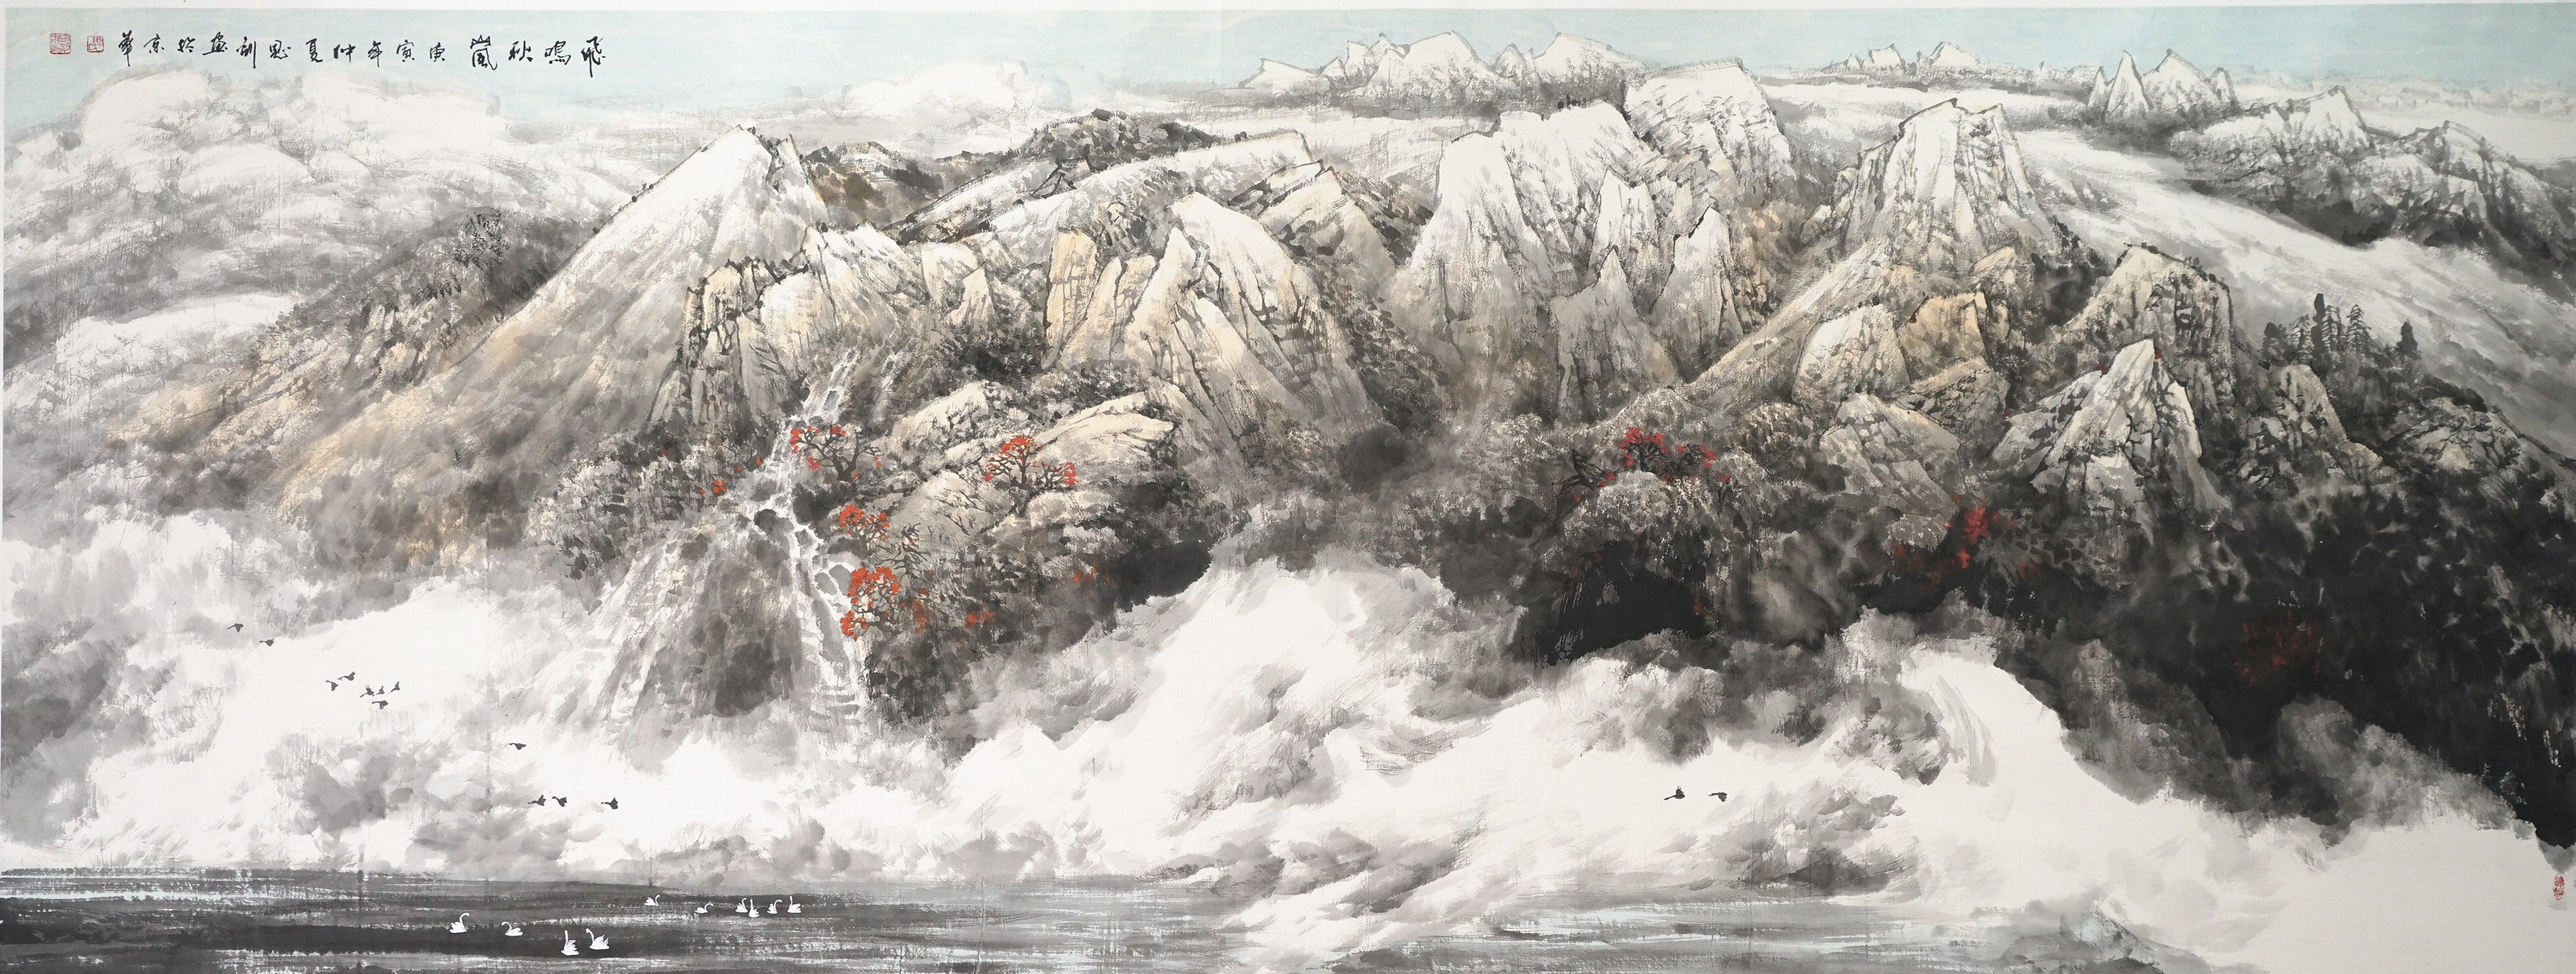mountain: (1373, 41, 1825, 465), (1005, 169, 1414, 452), (646, 113, 1032, 404), (1812, 79, 2062, 447), (2055, 225, 2261, 554)
plum: (784, 422, 1101, 634), (1587, 396, 1723, 491), (1945, 501, 2001, 570)
range: (2072, 41, 2576, 256)
river: (0, 834, 2242, 974)
